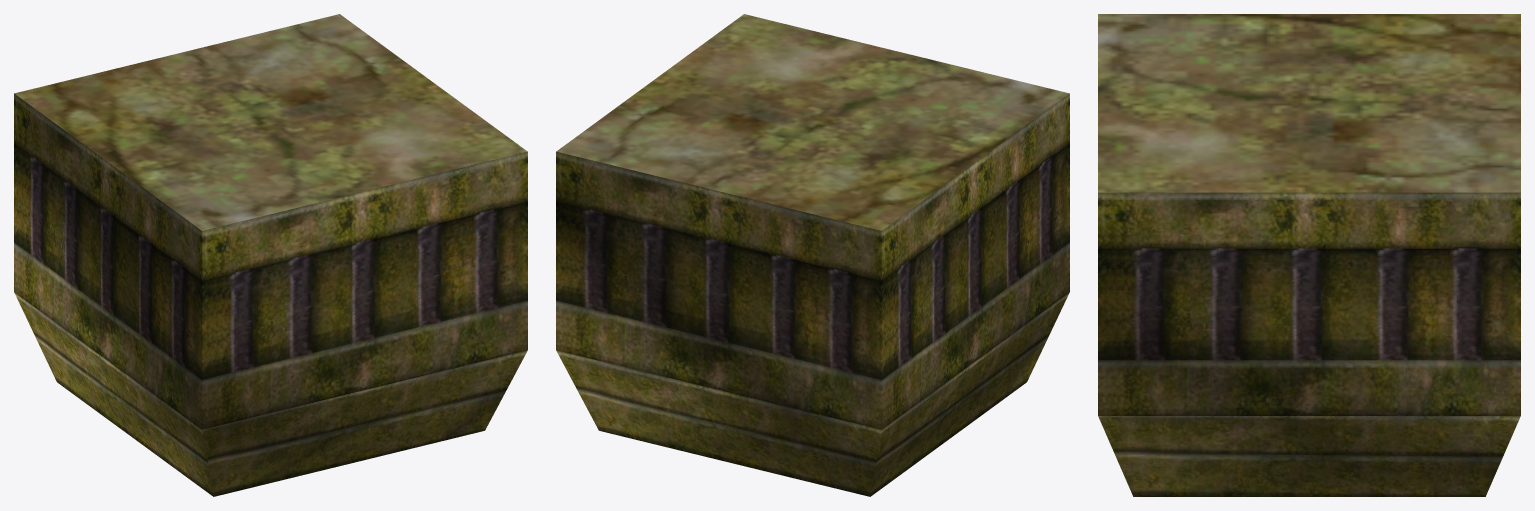
File: OVERHILL_A_01_OBJECT268.fbx
3 renders of one model, left to right at view 1: azimuth 30°, elevation 25°; view 2: azimuth 150°, elevation 25°; view 3: azimuth 270°, elevation 25°, orthographic. The views are drawn at different scales.
Parts seen in each view (by area): view 1: OVERHILL_A_01_OBJECT268; view 2: OVERHILL_A_01_OBJECT268; view 3: OVERHILL_A_01_OBJECT268.
Boxes of the visible parts, <box> form: OVERHILL_A_01_OBJECT268: <box>14,14,527,496</box>; OVERHILL_A_01_OBJECT268: <box>556,14,1069,496</box>; OVERHILL_A_01_OBJECT268: <box>1098,14,1520,496</box>.
Bounding box in the file's own units: 18045 × 15038 × 18045.
3 materials, 3 textured.
